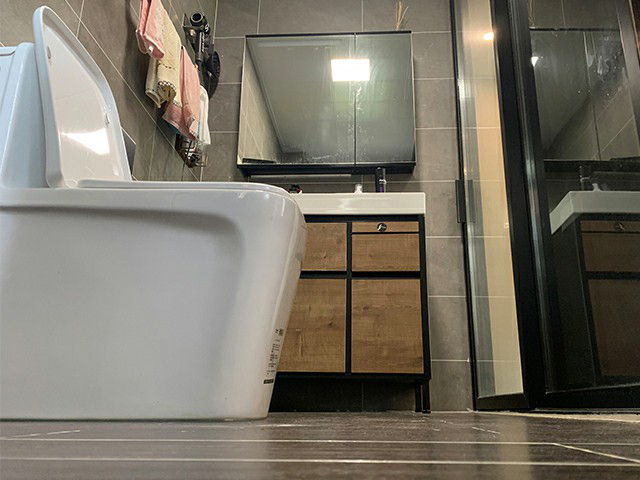cabinet: (277, 190, 433, 415)
closestool: (1, 6, 307, 425)
